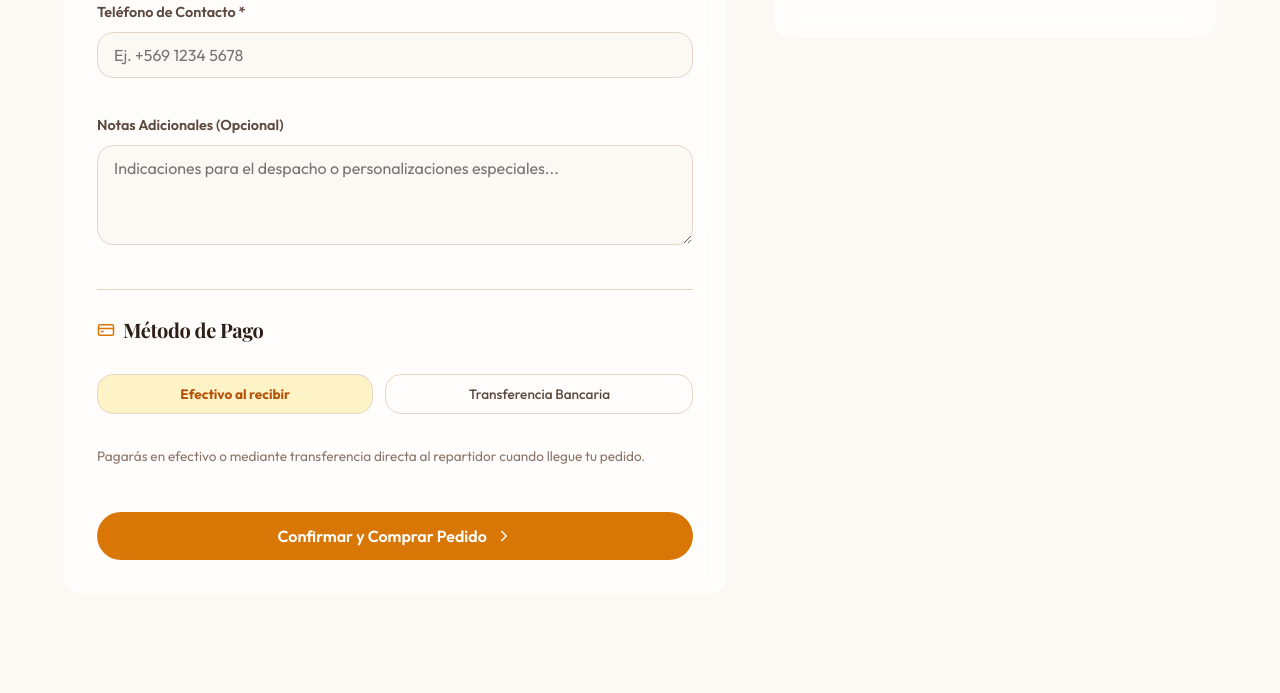
Checkout › muestra los datos de la transferencia al seleccionar ese método
(page scrolled)
Click the button "Transferencia Bancaria": (539, 394) [386, 374, 693, 414]
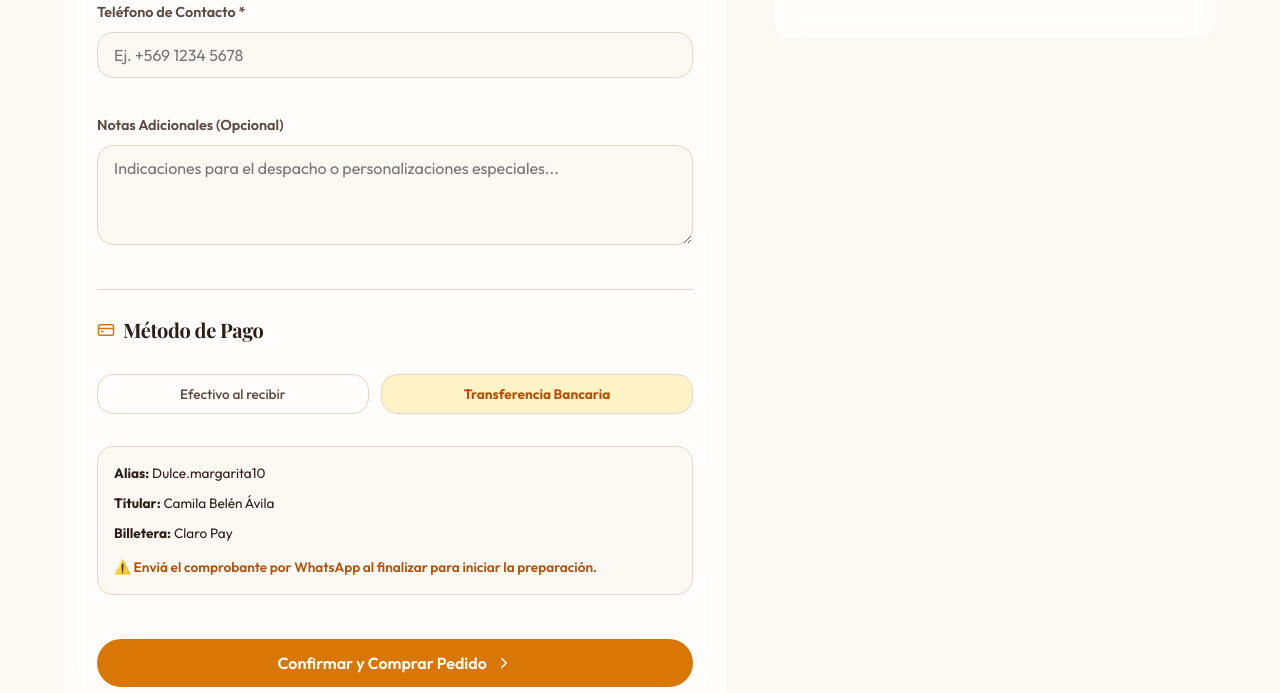
Result: the text "Dulce.margarita10" is shown at [149, 464, 265, 482]
